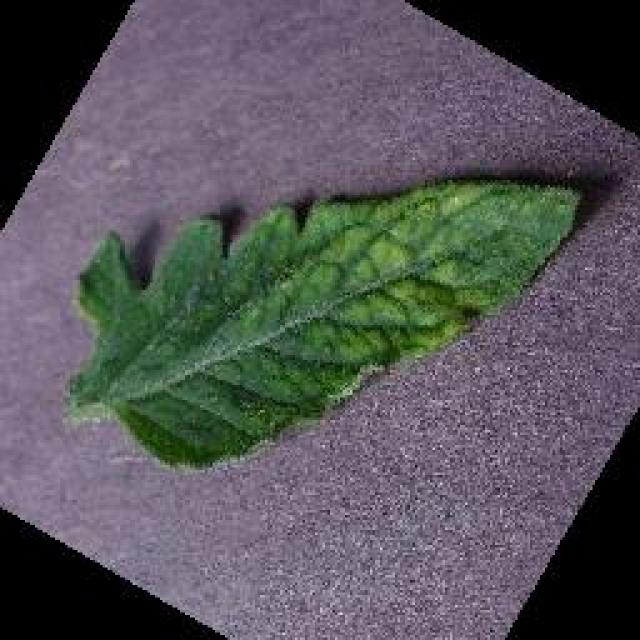Tomato___Tomato_mosaic_virus: (70, 178, 578, 462)
